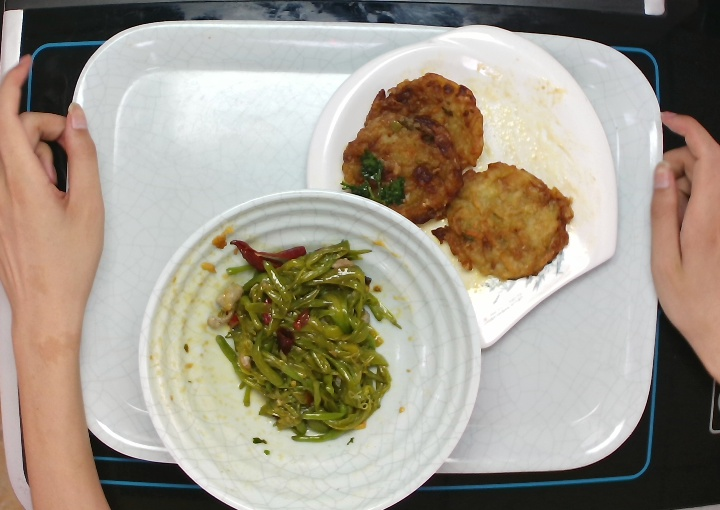JYsf-Da_Tang_Wan: (136, 187, 483, 510)
JYsf-Mian_Pan: (303, 23, 620, 350)
